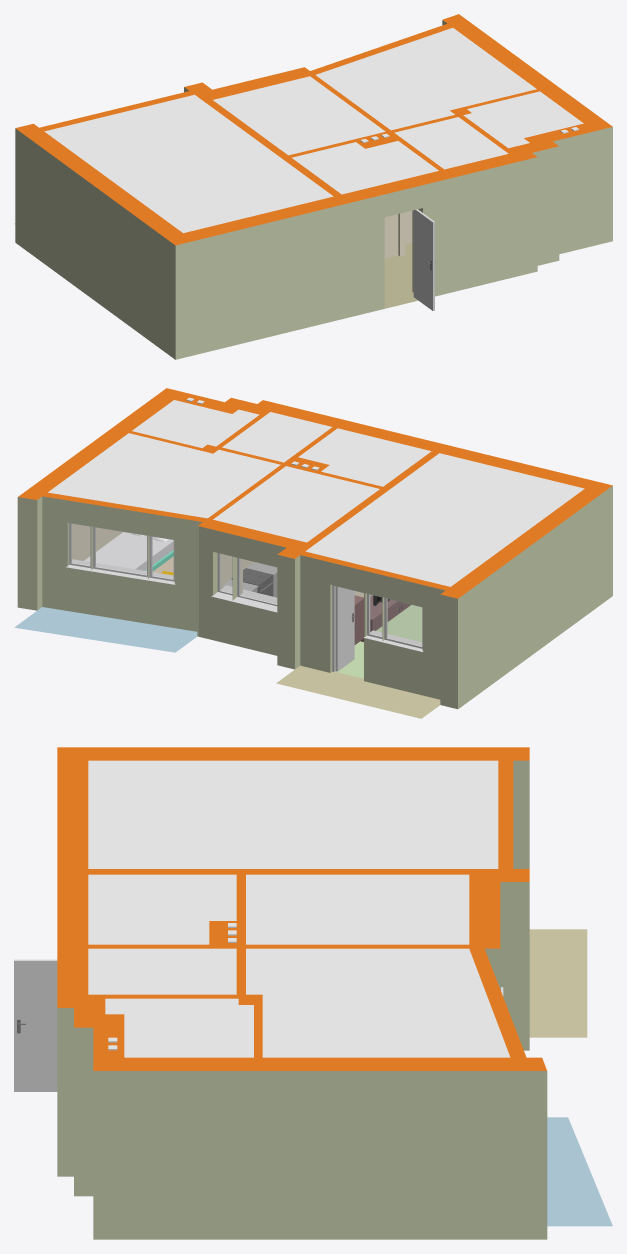
The model's file is modelo.obj.
3 views of the same model, one above another, from view 1: azimuth 30°, elevation 25°; view 2: azimuth 150°, elevation 25°; view 3: azimuth 270°, elevation 25° (orthographic). The views are drawn at different scales.
Visible parts, largest first — view 1: ceiling room300, wall307 exterior, wall306 exterior, levelSection0 level299, ceiling room342, wall391 exterior, ceiling room320, wall365 exterior, ceiling room377, wall305 exterior, ceiling room360, wall383 exterior (+6 smaller); view 2: ceiling room300, wall307 exterior, levelSection0 level299, wall403 exterior, ceiling room342, wall397 exterior, ceiling room320, wall321 exterior, ceiling room377, floor room400, wall301 exterior, floor room394 (+19 smaller); view 3: wall347 exterior, ceiling room300, levelSection0 level299, ceiling room342, wall364 exterior, ceiling room320, ceiling room377, ceiling room360, floor room394, door384, ceiling room388, floor room400 (+5 smaller).
Part boxes in pixels (box(x1,y1,x2,y2)): ceiling room300: box(44, 94, 333, 233); wall307 exterior: box(15, 128, 175, 359); wall306 exterior: box(175, 207, 333, 359); levelSection0 level299: box(15, 14, 612, 245); ceiling room342: box(316, 28, 536, 130); wall391 exterior: box(436, 157, 537, 295); ceiling room320: box(213, 76, 385, 155); wall365 exterior: box(553, 127, 612, 254); ceiling room377: box(292, 141, 438, 194); wall305 exterior: box(362, 182, 436, 313); ceiling room360: box(463, 91, 583, 148); wall383 exterior: box(334, 200, 422, 320); ceiling room300: box(305, 453, 584, 586); wall307 exterior: box(458, 485, 612, 708); levelSection0 level299: box(18, 388, 612, 598); wall403 exterior: box(42, 496, 202, 631); ceiling room342: box(48, 433, 280, 518); wall397 exterior: box(300, 555, 445, 699); ceiling room320: box(213, 466, 379, 542); wall321 exterior: box(199, 526, 286, 655); ceiling room377: box(298, 428, 431, 486); floor room400: box(14, 607, 197, 652); wall301 exterior: box(277, 554, 457, 709); floor room394: box(276, 665, 440, 718); wall347 exterior: box(231, 1071, 547, 1239); ceiling room300: box(88, 760, 498, 868); levelSection0 level299: box(57, 747, 546, 1070); ceiling room342: box(246, 948, 510, 1057); wall364 exterior: box(93, 1071, 231, 1239); ceiling room320: box(246, 874, 469, 944); ceiling room377: box(88, 874, 236, 944); ceiling room360: box(105, 998, 253, 1057); floor room394: box(529, 929, 587, 1037); door384: box(14, 959, 57, 1091); ceiling room388: box(129, 948, 236, 994); floor room400: box(547, 1117, 612, 1226).
Size of the model in its own units: 10.28 by 2.52 by 8.05.
